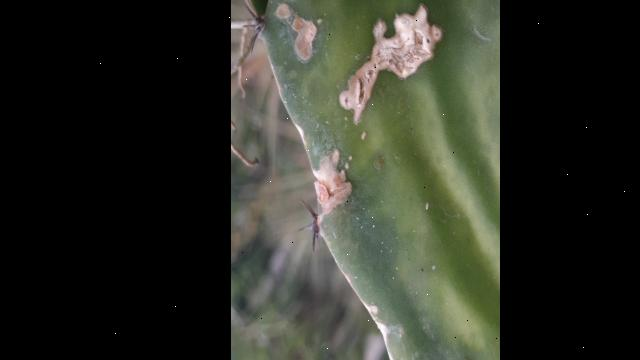stemcanker: (331, 2, 445, 127), (304, 146, 354, 218), (269, 1, 321, 67)
